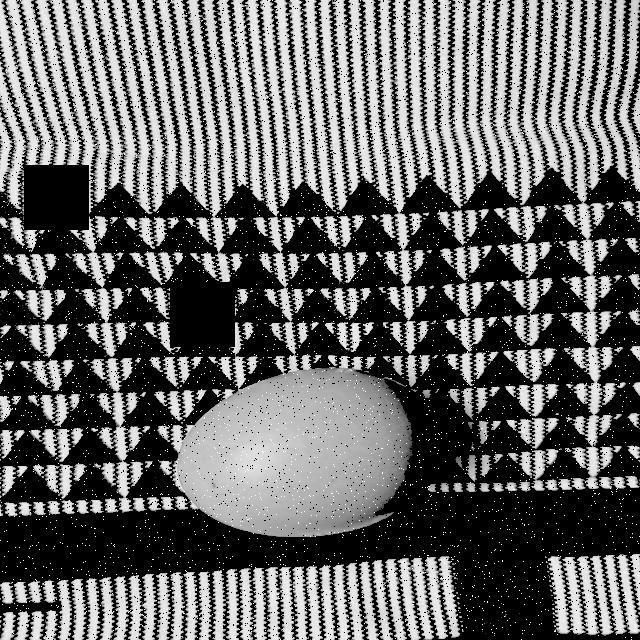egg: (174, 367, 450, 540)
